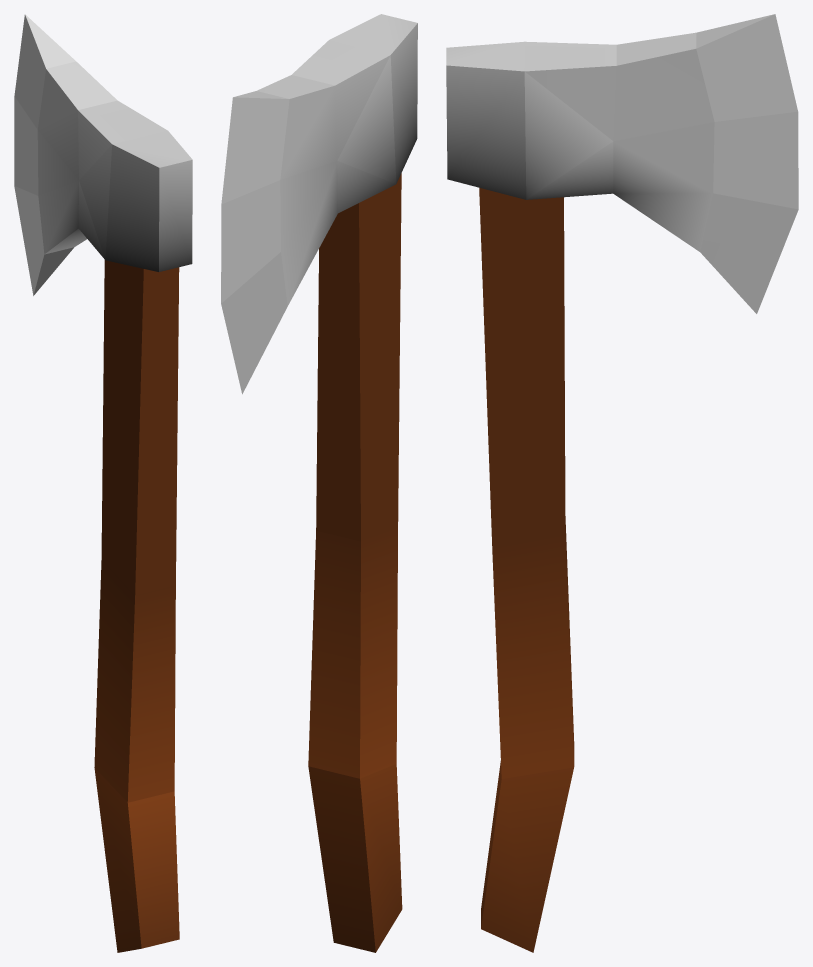
Rendered from axe.gltf.
The picture shows the model from 3 angles, left to right: view 1: azimuth 30°, elevation 25°; view 2: azimuth 150°, elevation 25°; view 3: azimuth 270°, elevation 25°; orthographic projection. The views are drawn at different scales.
Parts seen in each view (by area): view 1: Axe; view 2: Axe; view 3: Axe.
Part boxes in pixels (bbox=[...]): Axe: bbox=[14, 14, 192, 952]; Axe: bbox=[221, 14, 417, 952]; Axe: bbox=[446, 14, 798, 952].
Bounding box in the file's own units: 0.0589 × 0.7083 × 0.2437.
